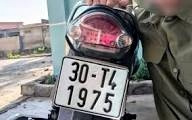Bien-so: (53, 56, 129, 119)
